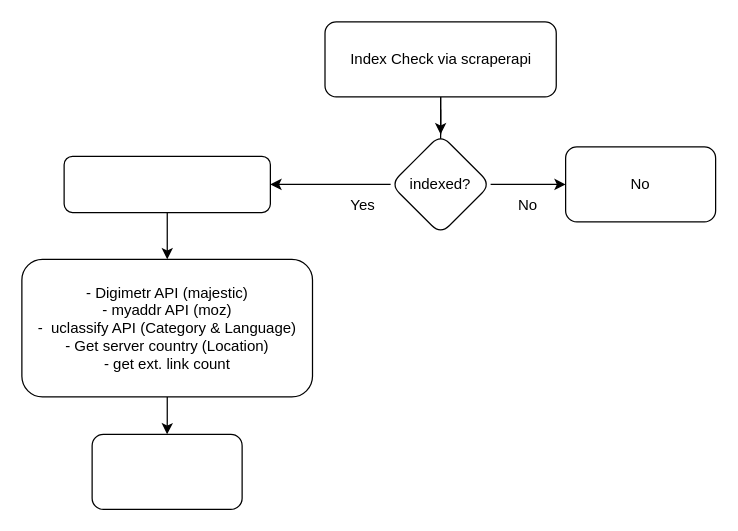
Some shapes in this 738 by 531 pixel diagram are drawn without their labels. The box of each missing label's shape, as (x1, y1, x2, y2) in pixels:
Add pricing: (91, 433, 242, 509)
Check Metrics: (63, 155, 270, 212)
